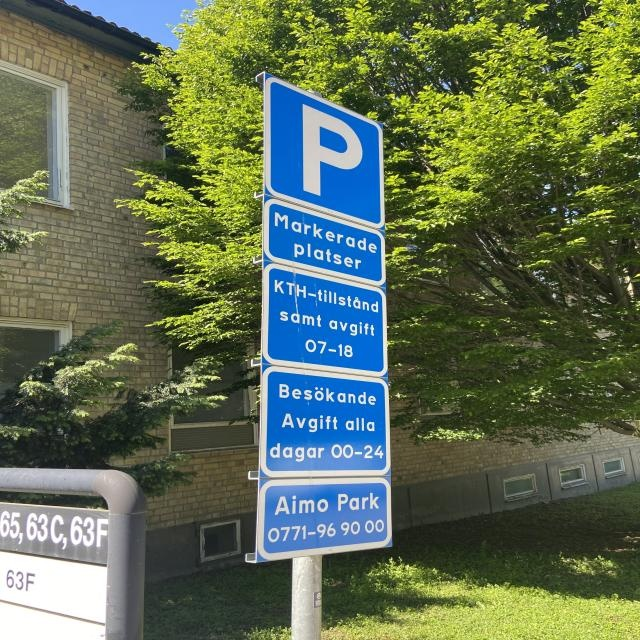P-skylt: (255, 67, 402, 231)
